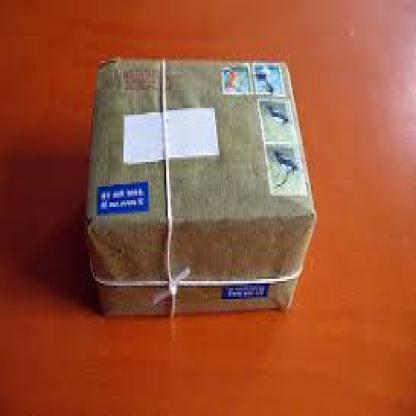paquete: (84, 52, 318, 335)
